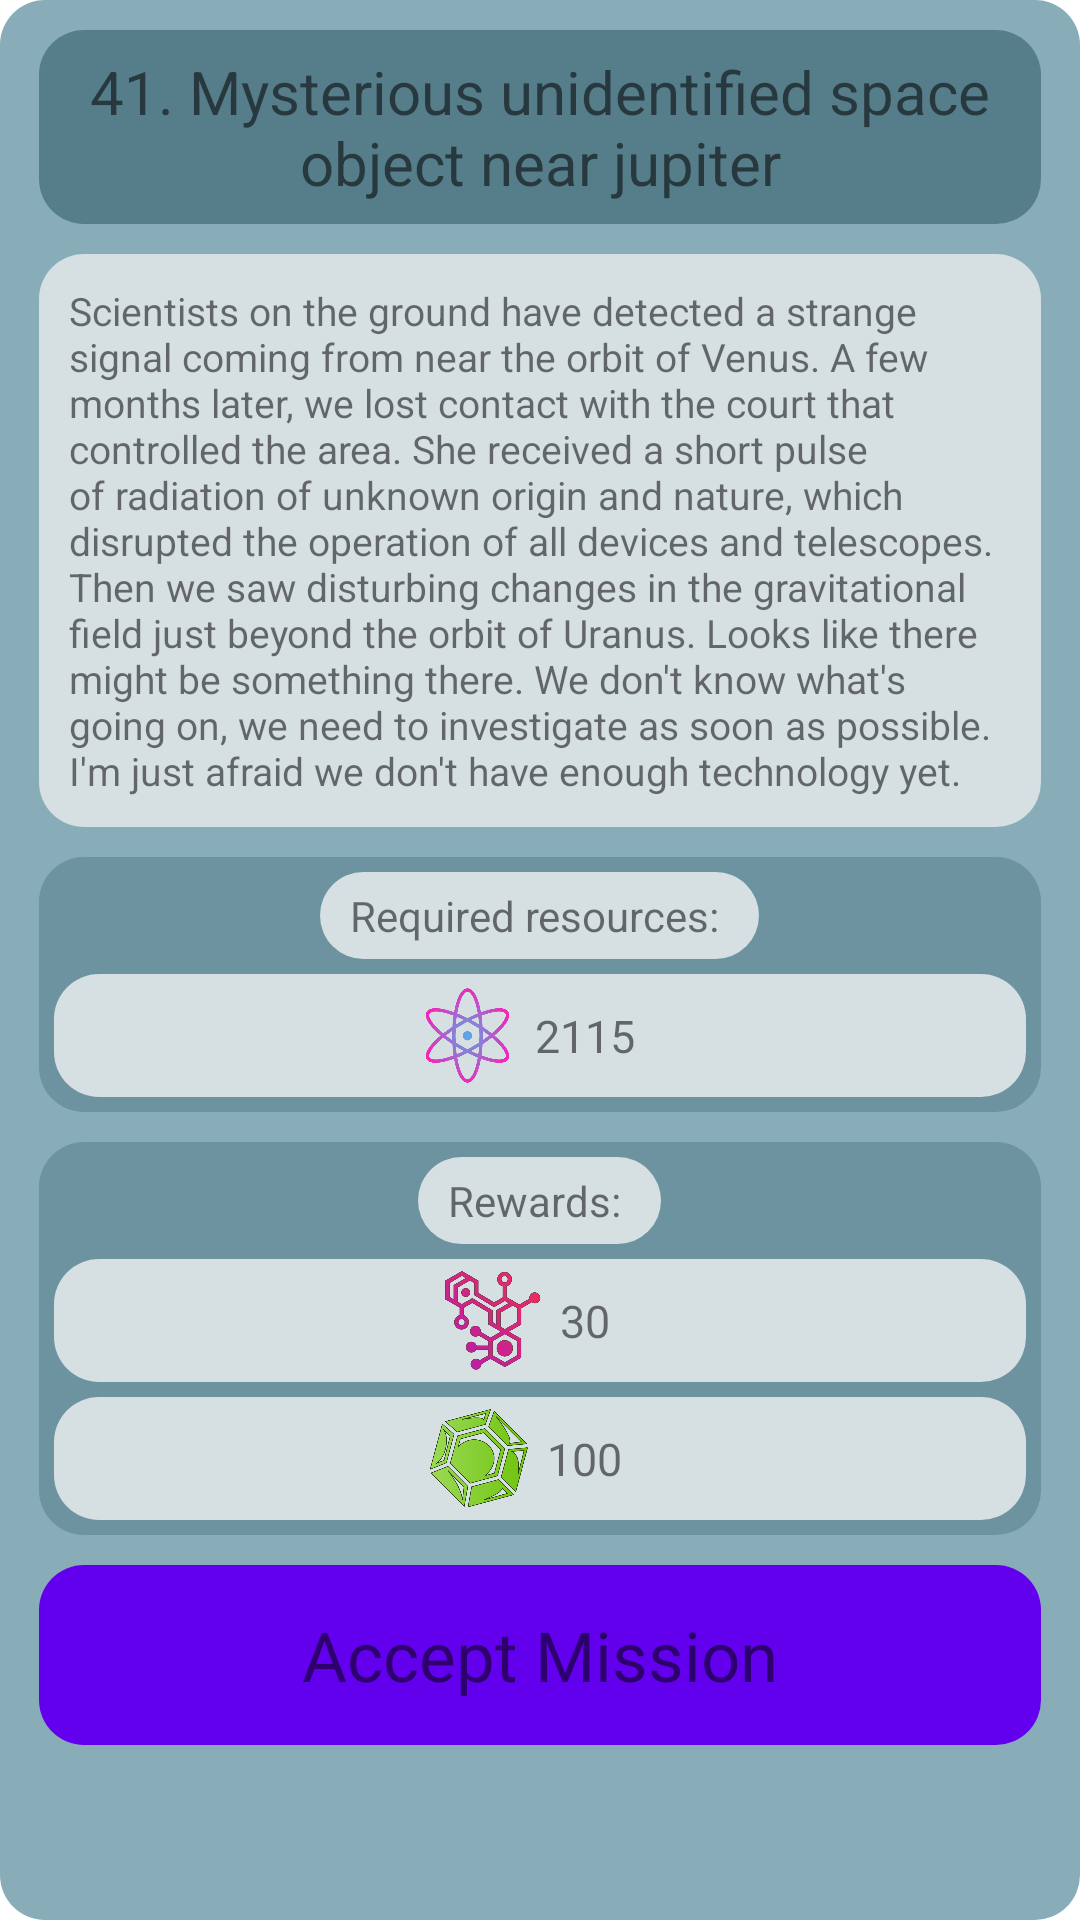

Locate icon controls on the screen. Image size 1080px×1920px, boxes as BBox(x1, y1, x2, y2).
atom: BBox(426, 988, 509, 1083)
emerald: BBox(430, 1409, 528, 1507)
molecule: BBox(445, 1271, 540, 1370)
